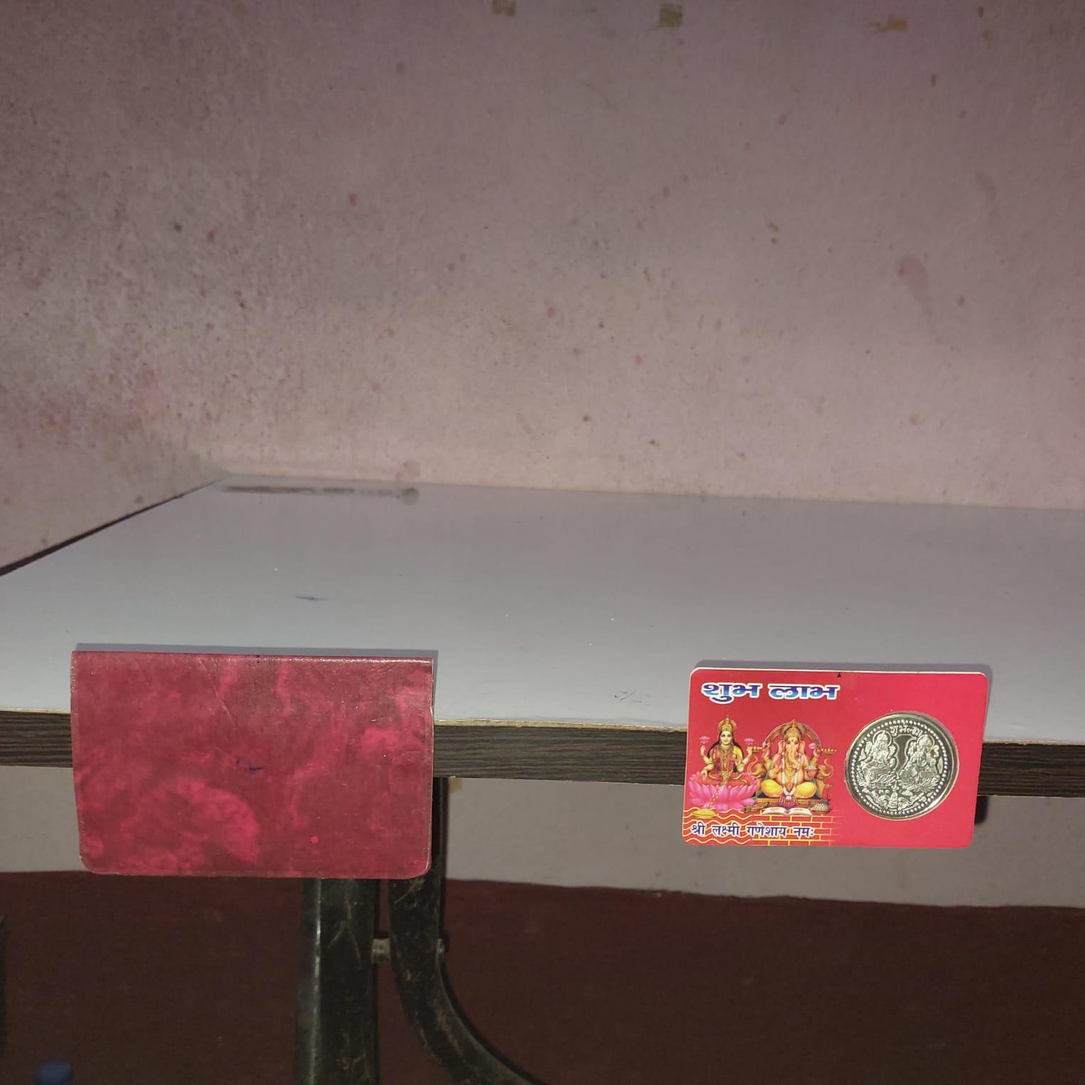blessing_card: (675, 660, 987, 848)
wallet: (65, 641, 440, 872)
